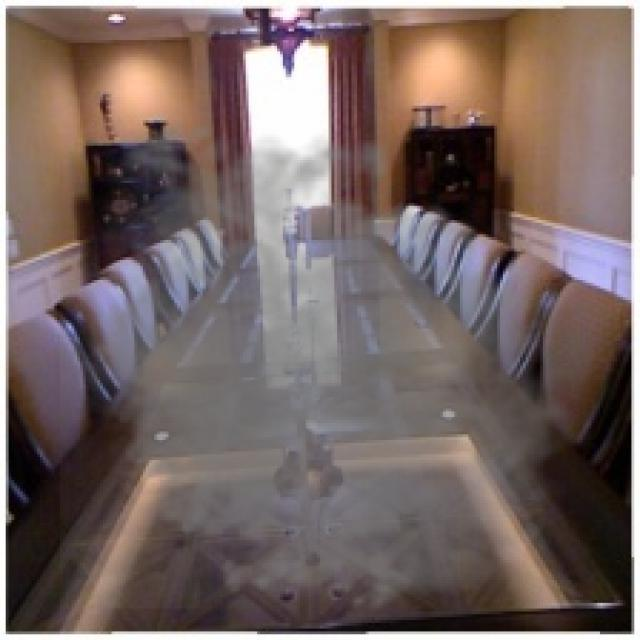smoke: (60, 106, 597, 620)
